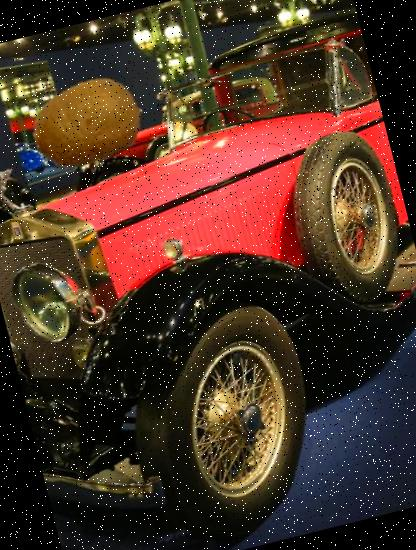Kiwi: (20, 56, 156, 190)
